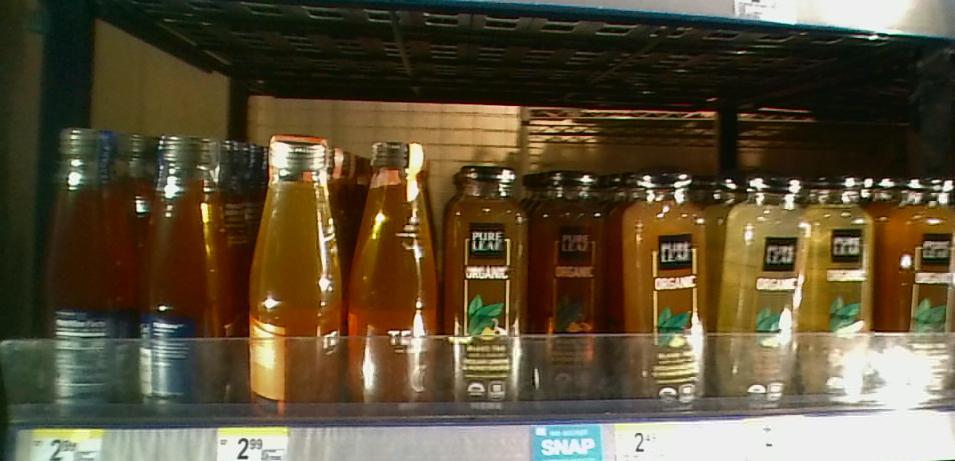bottle: (237, 126, 348, 416), (40, 112, 139, 422), (347, 126, 445, 431), (141, 117, 237, 421), (615, 159, 717, 405), (444, 154, 535, 416), (721, 168, 811, 402), (537, 162, 615, 402), (880, 182, 955, 405), (812, 175, 878, 402)
